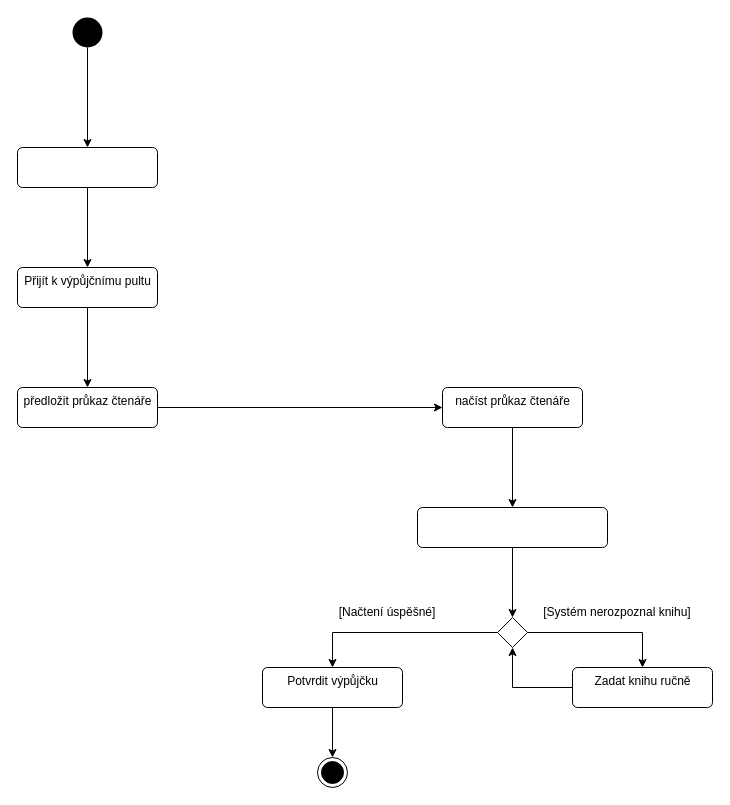
Some shapes in this 730 by 805 pixel diagram are drawn without their labels. Here are the shapes that lost their labels. From the top down, the centre of each, then its label:
At [87,167]: "Vybrat knihu".
At [512,527]: "naskenovat čárový kód knihy".
